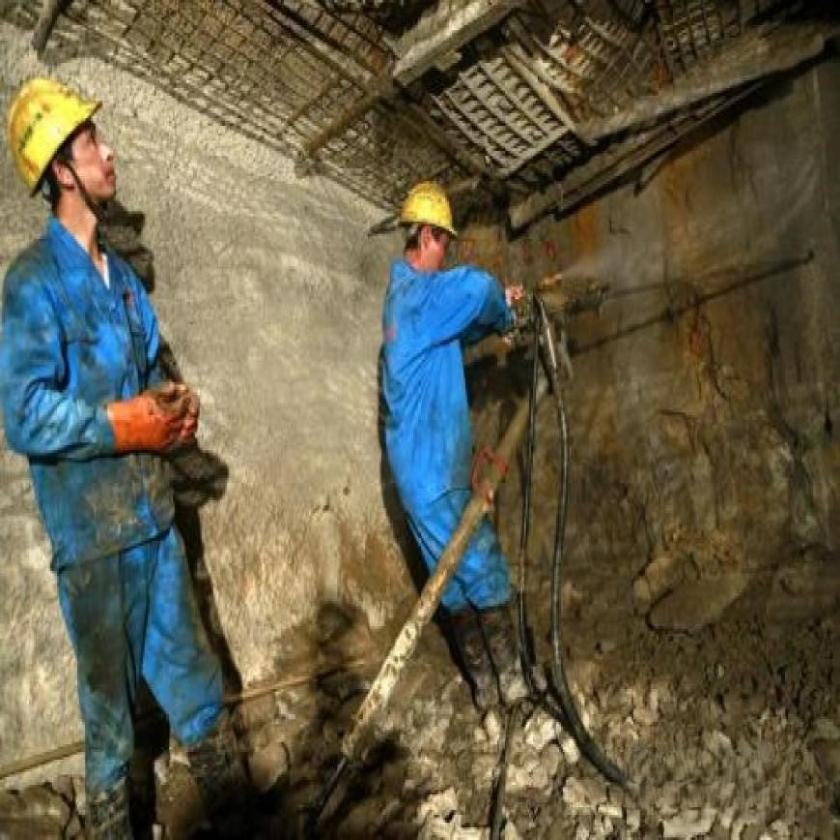Con_casco: (15, 76, 122, 228), (396, 170, 461, 288)
